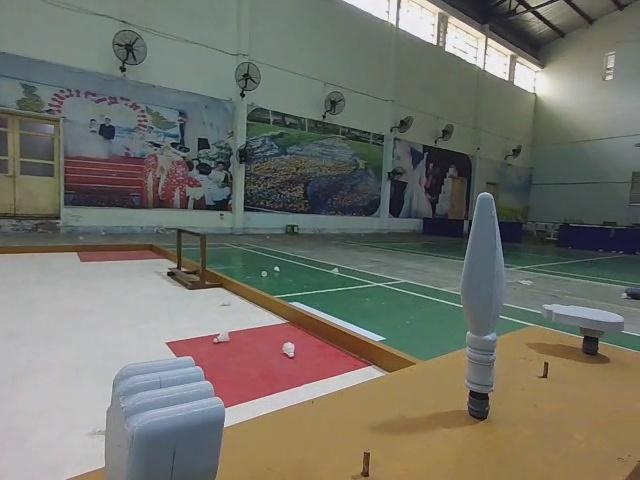Fist: (112, 353, 231, 479)
Hand: (112, 353, 231, 479), (537, 297, 624, 362)
Sph: (457, 194, 513, 432)
